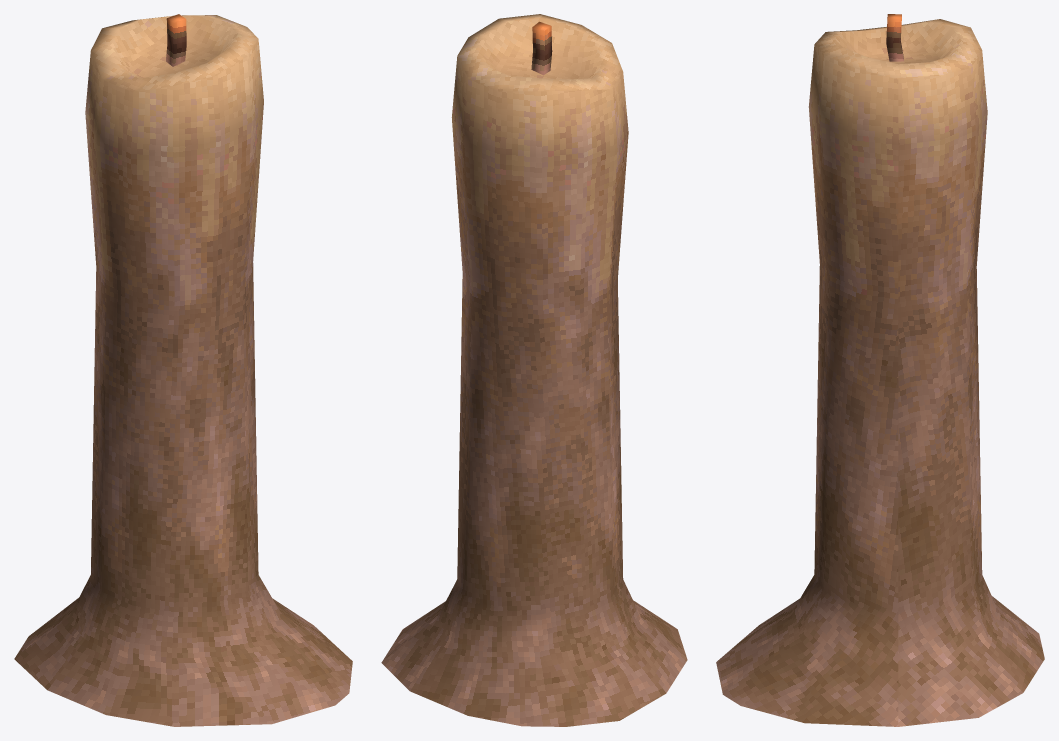
The model's file is candle_stage1.glb.
The picture shows the model from 3 angles, left to right: view 1: azimuth 30°, elevation 25°; view 2: azimuth 150°, elevation 25°; view 3: azimuth 270°, elevation 25°; orthographic projection.
Parts seen in each view (by area): view 1: candle_stage1; view 2: candle_stage1; view 3: candle_stage1.
Part boxes in pixels (x1,y1,x2,y2): candle_stage1: (14,14,352,726); candle_stage1: (381,14,687,726); candle_stage1: (716,14,1044,726).
Bounding box in the file's own units: 0.1927 × 0.4442 × 0.2057.
1 material, 1 textured.
